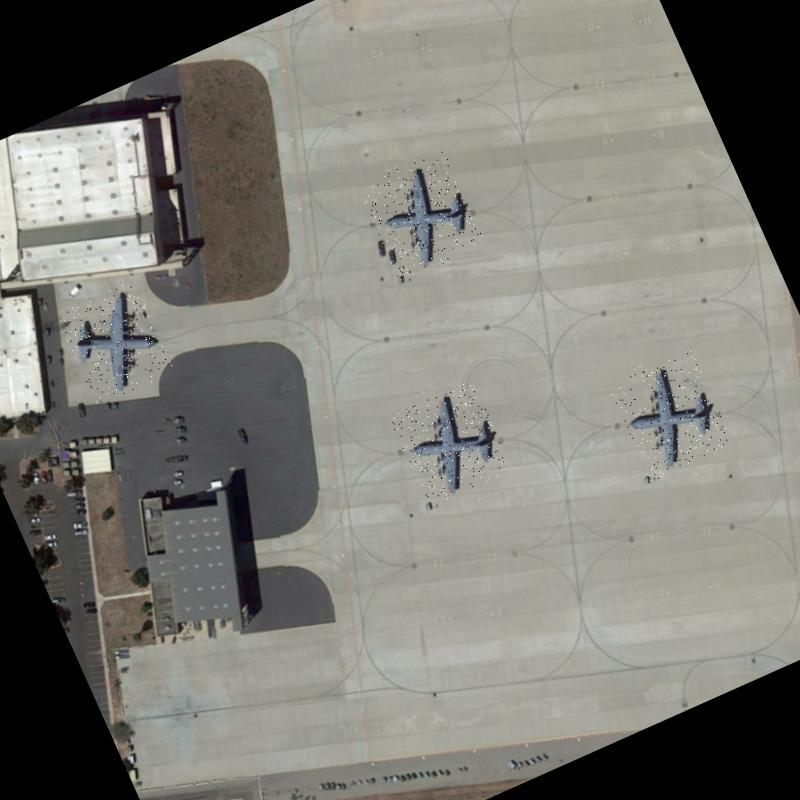A2: (358, 148, 486, 282), (608, 349, 734, 482), (389, 379, 513, 507), (56, 280, 176, 407)
